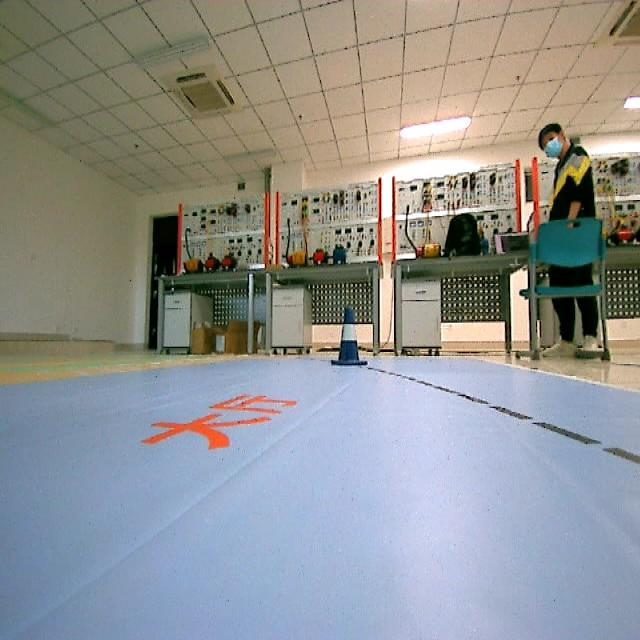obstacle: (326, 304, 376, 372)
